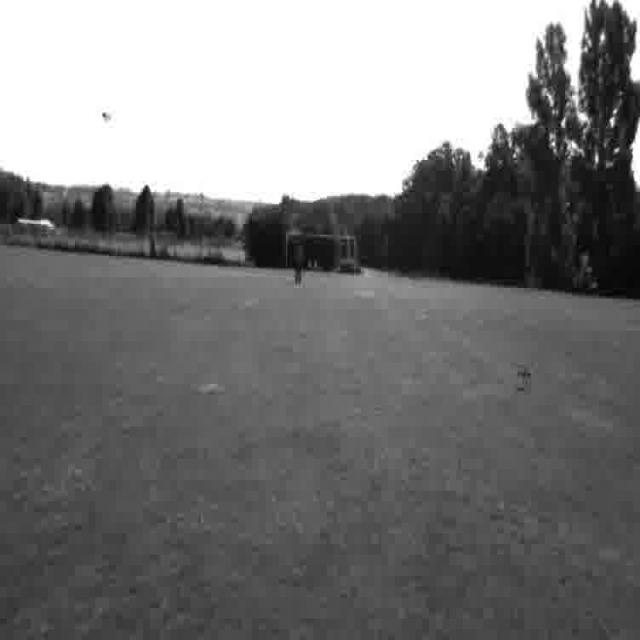drones: (513, 361, 538, 396)
